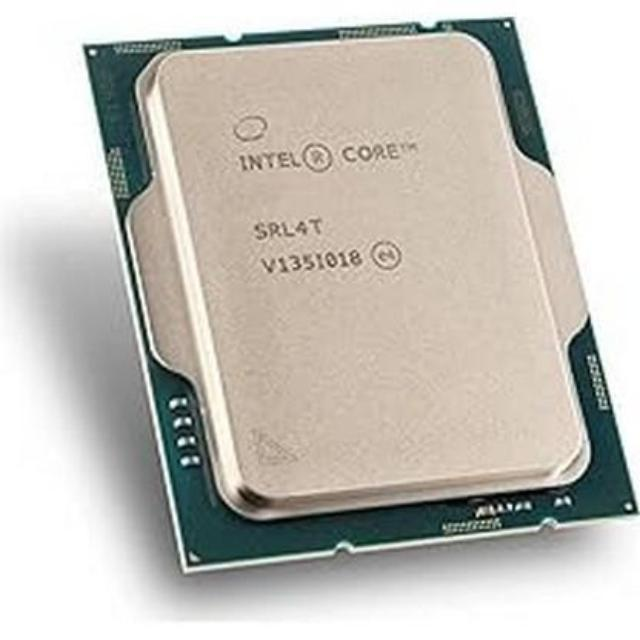CPU: (85, 31, 637, 548)
